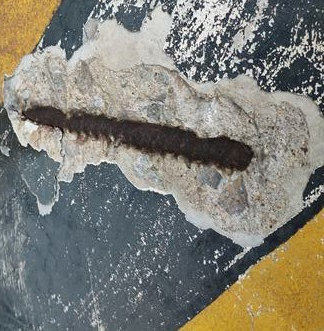Exposed reinforcement: (21, 105, 253, 172)
Spalling: (1, 4, 324, 249)
